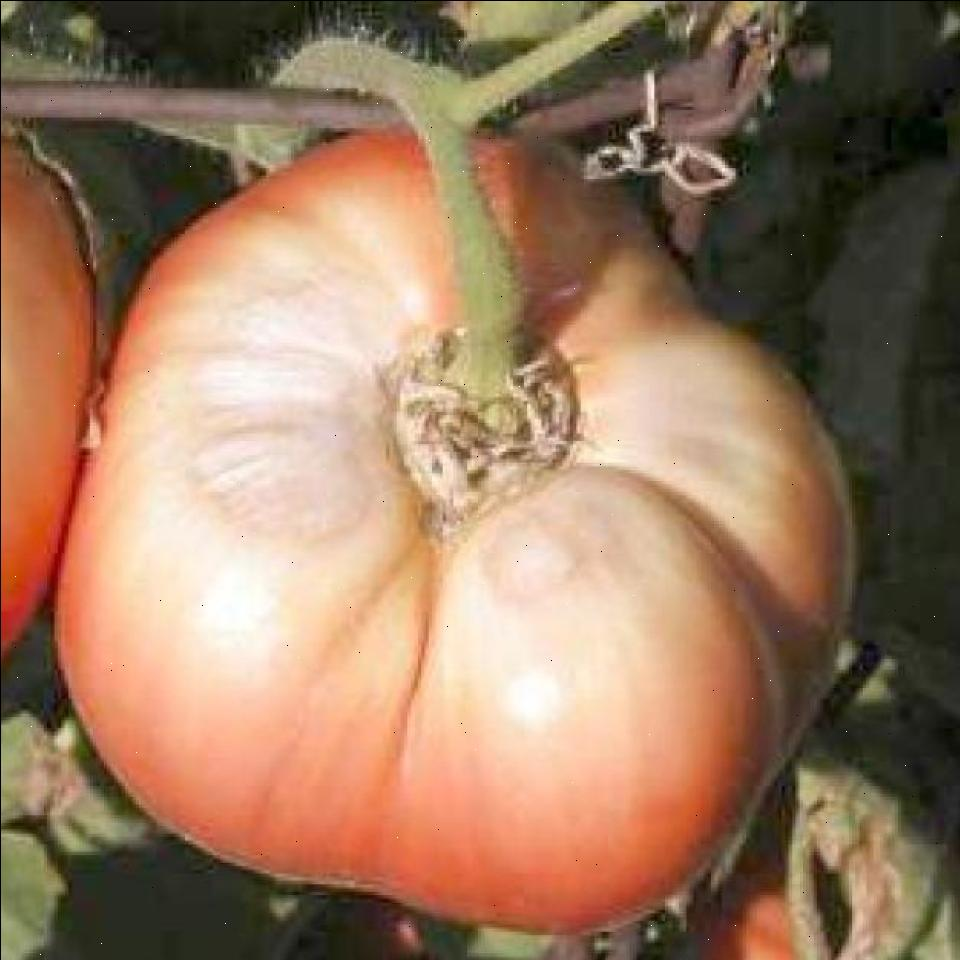Sunscald: (184, 206, 750, 717)
